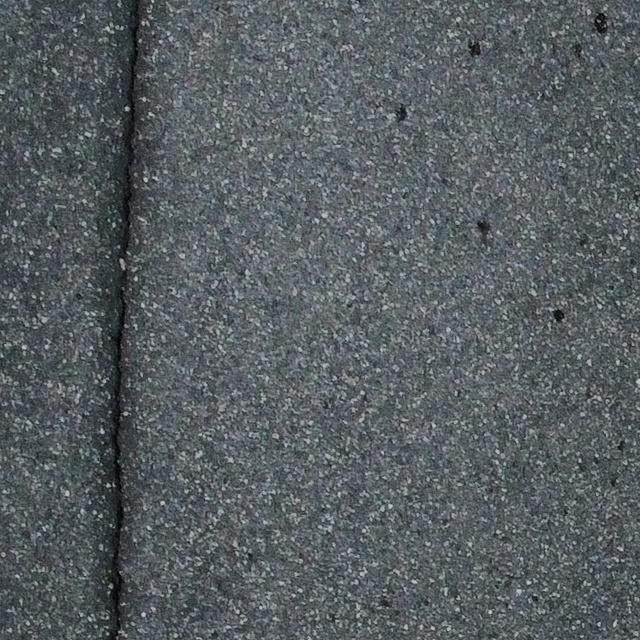LongitudinalCrack: (110, 1, 145, 639)
